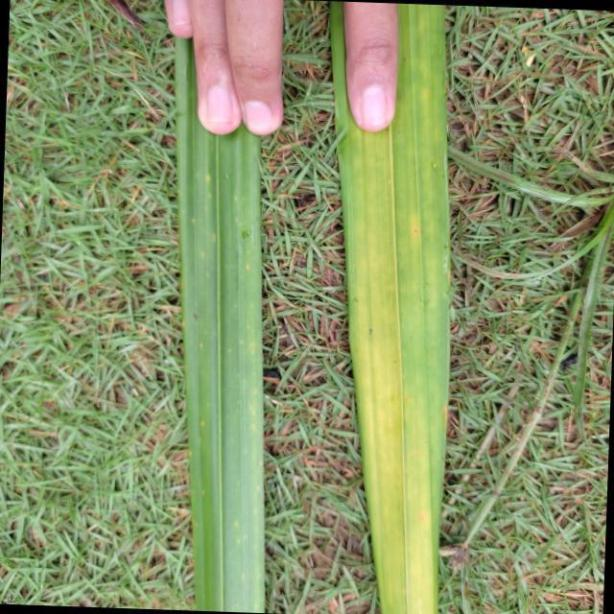nitrogen: (336, 0, 451, 614)
